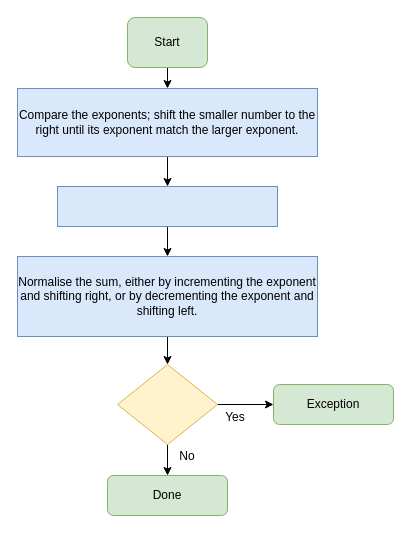
This 411x533 diagram has some shape labels left out. The box of each missing label's shape, as (x1, y1, x2, y2) in pixels:
Add the significands: (56, 186, 278, 226)
Overflow/ Underflow?: (116, 364, 218, 444)
